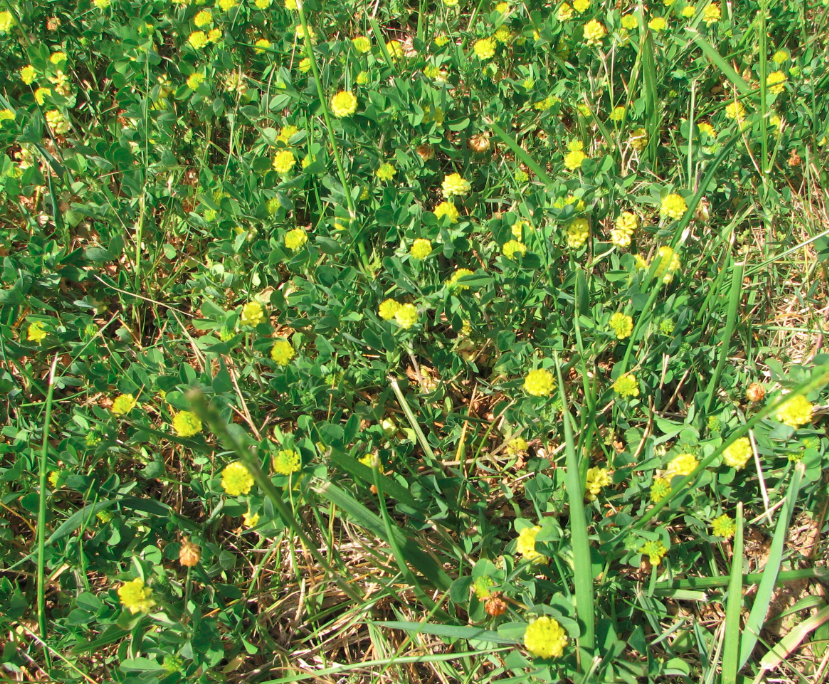clover: (11, 3, 808, 668)
